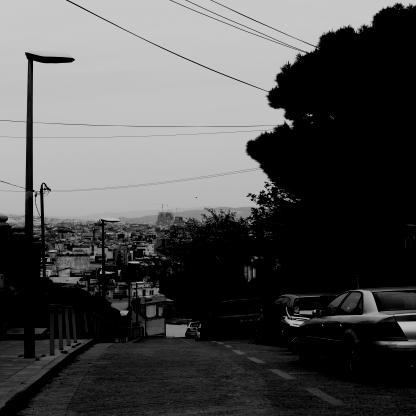light_pole: (22, 52, 76, 357), (103, 218, 121, 323), (127, 262, 141, 328)
